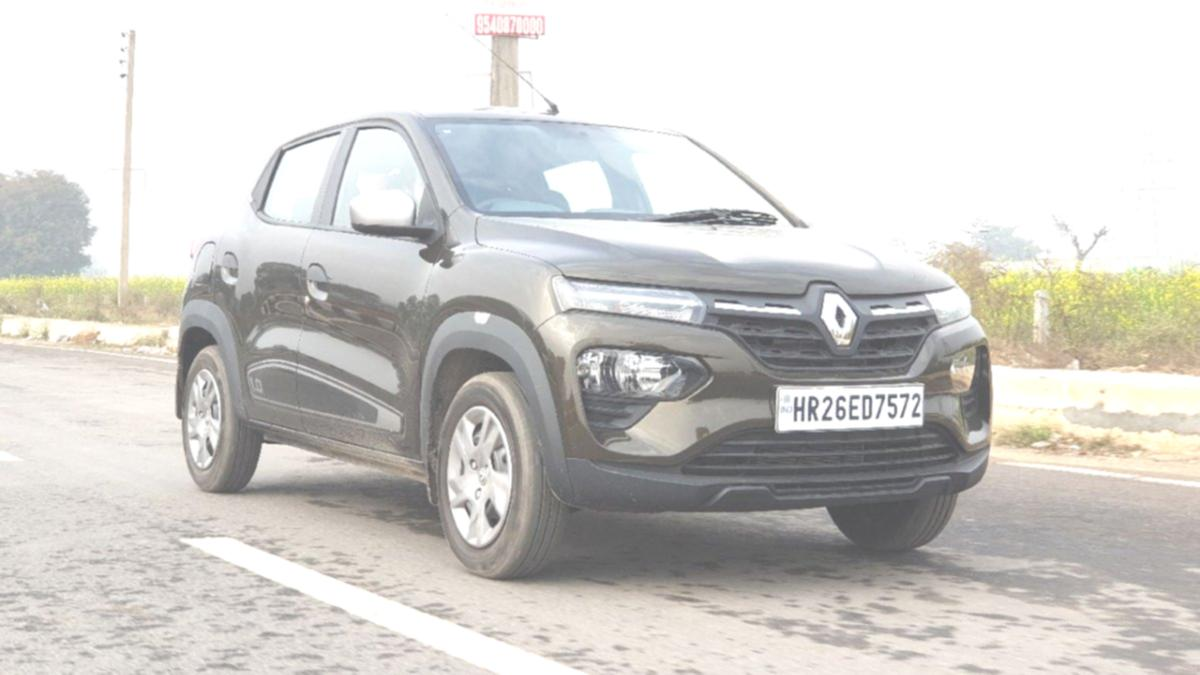Renault: (811, 280, 866, 362)
